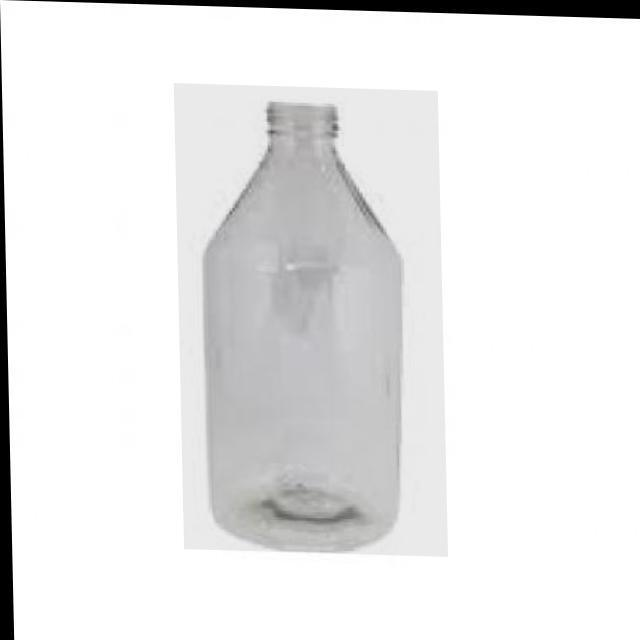trash: (196, 90, 410, 554)
